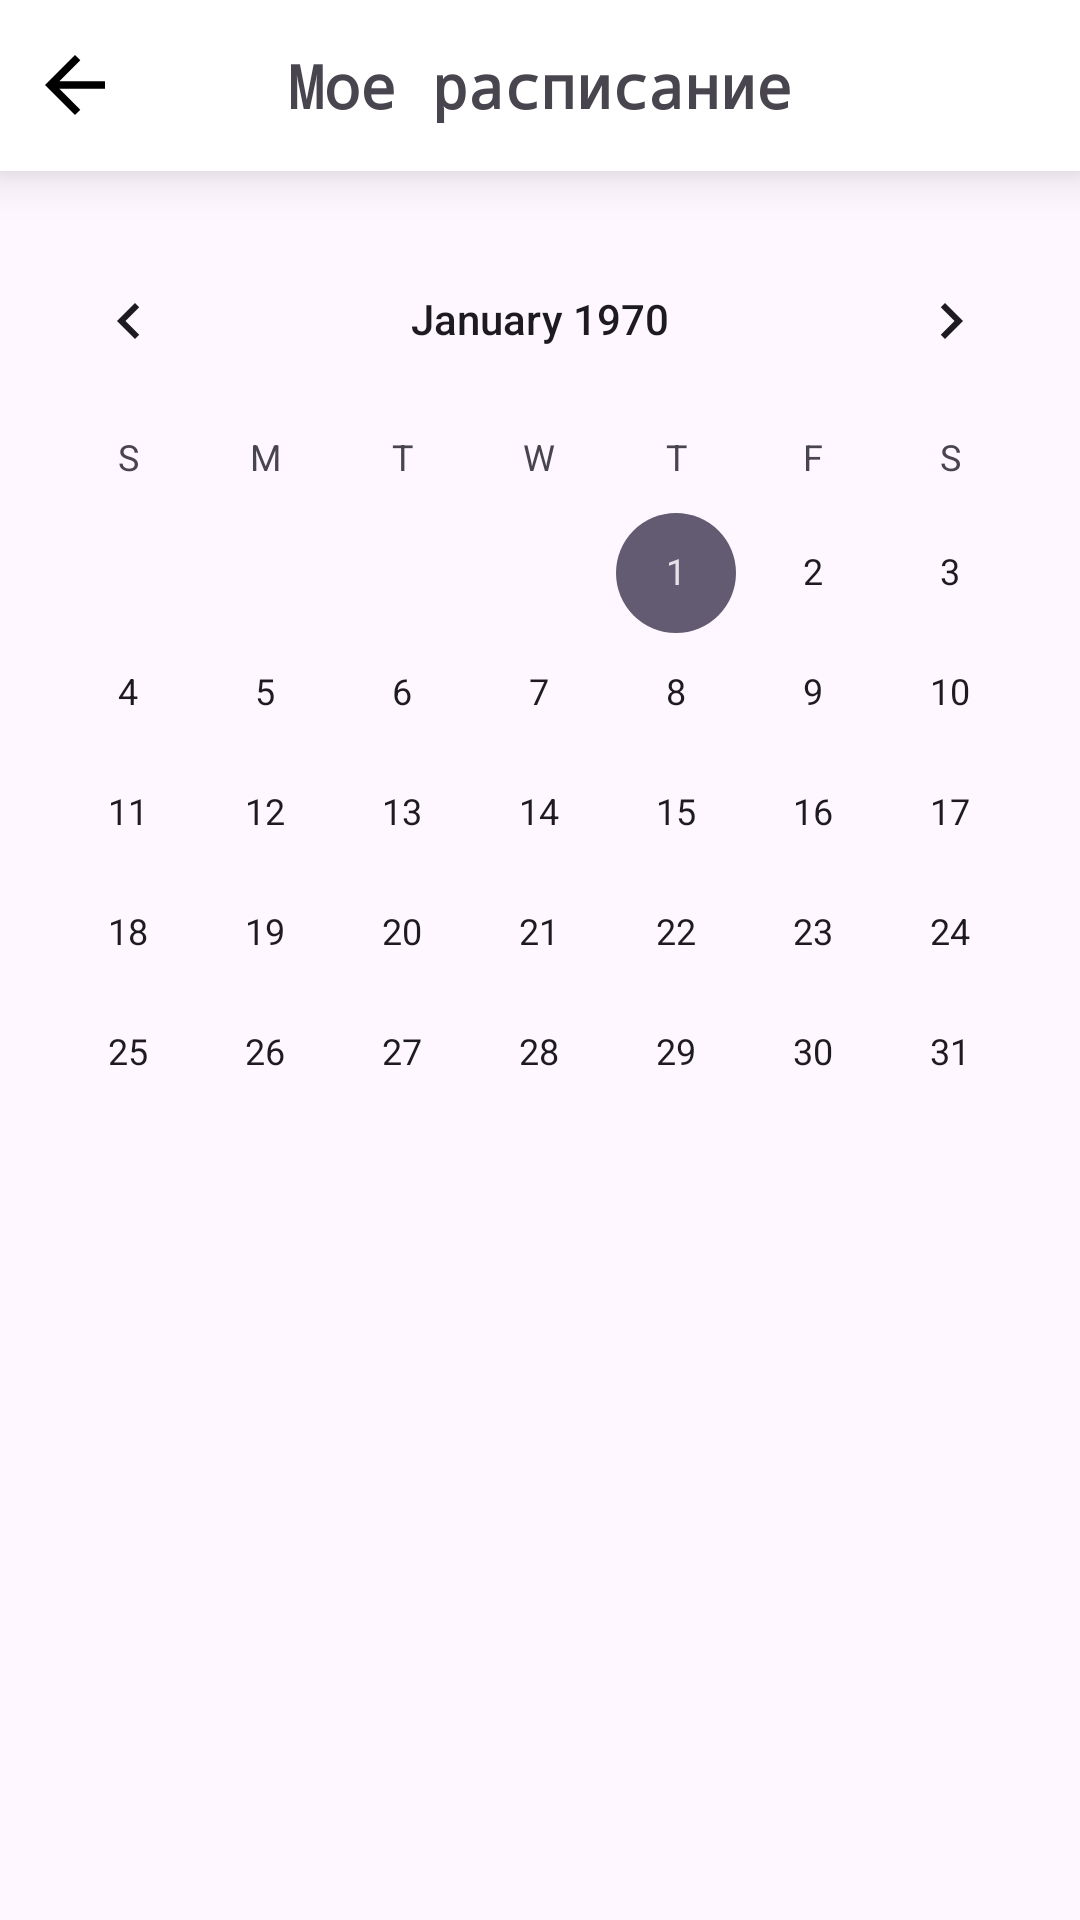

Icons on this 1080px×1920px Android screen, each with its box as (x1,y1,x2,y2):
arrow back: (45,55,105,115)
